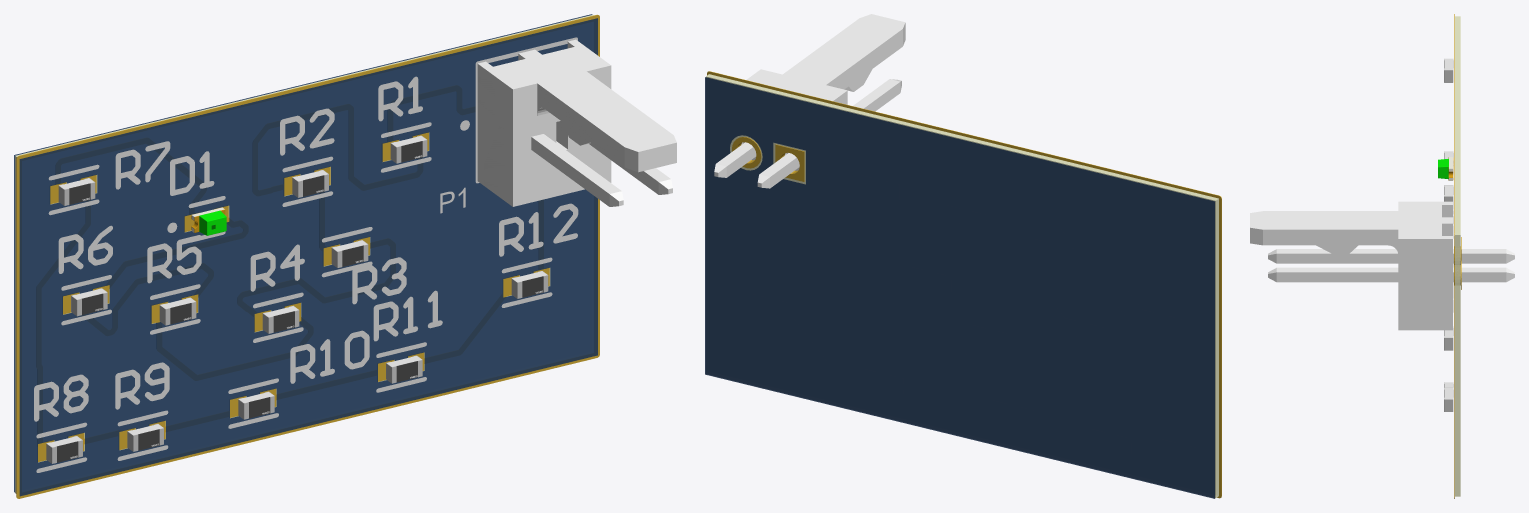
3 views of the same model, side by side, from view 1: azimuth 30°, elevation 25°; view 2: azimuth 150°, elevation 25°; view 3: azimuth 270°, elevation 25° (orthographic). The views are drawn at different scales.
Visible parts, largest first — view 1: Solder_Top, ComponentBody.54, Track.91, Core, Track.90, Silk.34, Silk.35, Track.93, Solder_Bottom, Silk.45, Silk.36, Silk.44 (+8 smaller); view 2: Solder_Bottom, ComponentBody.54, Core, Track.91, Track.93; view 3: ComponentBody.54, Core.
Part boxes in pixels (<box>): Solder_Top: <box>19,18,597,496</box>; ComponentBody.54: <box>477,39,676,206</box>; Track.91: <box>16,14,599,161</box>; Core: <box>15,15,593,493</box>; Track.90: <box>16,352,599,498</box>; Silk.34: <box>290,330,369,383</box>; Silk.35: <box>499,203,578,256</box>; Track.93: <box>16,156,21,496</box>; Solder_Bottom: <box>14,14,592,492</box>; Silk.45: <box>34,374,88,421</box>; Silk.36: <box>373,290,442,341</box>; Silk.44: <box>115,362,169,409</box>; Solder_Bottom: <box>705,77,1214,498</box>; ComponentBody.54: <box>714,14,905,188</box>; Core: <box>706,74,1218,498</box>; Track.91: <box>708,71,1221,200</box>; Track.93: <box>1217,196,1221,497</box>; ComponentBody.54: <box>1250,201,1514,330</box>; Core: <box>1455,16,1460,496</box>.
Bounding box in the file's own units: 3.01 × 1.69 × 1.53.
